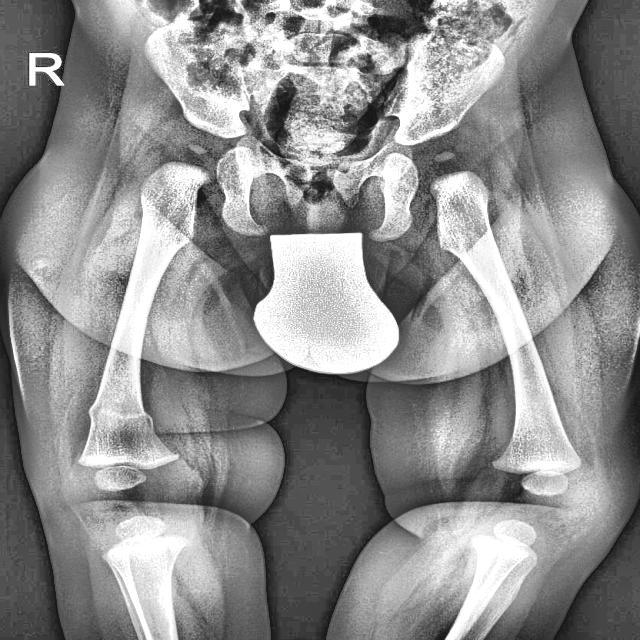fracture: (84, 400, 152, 426)
